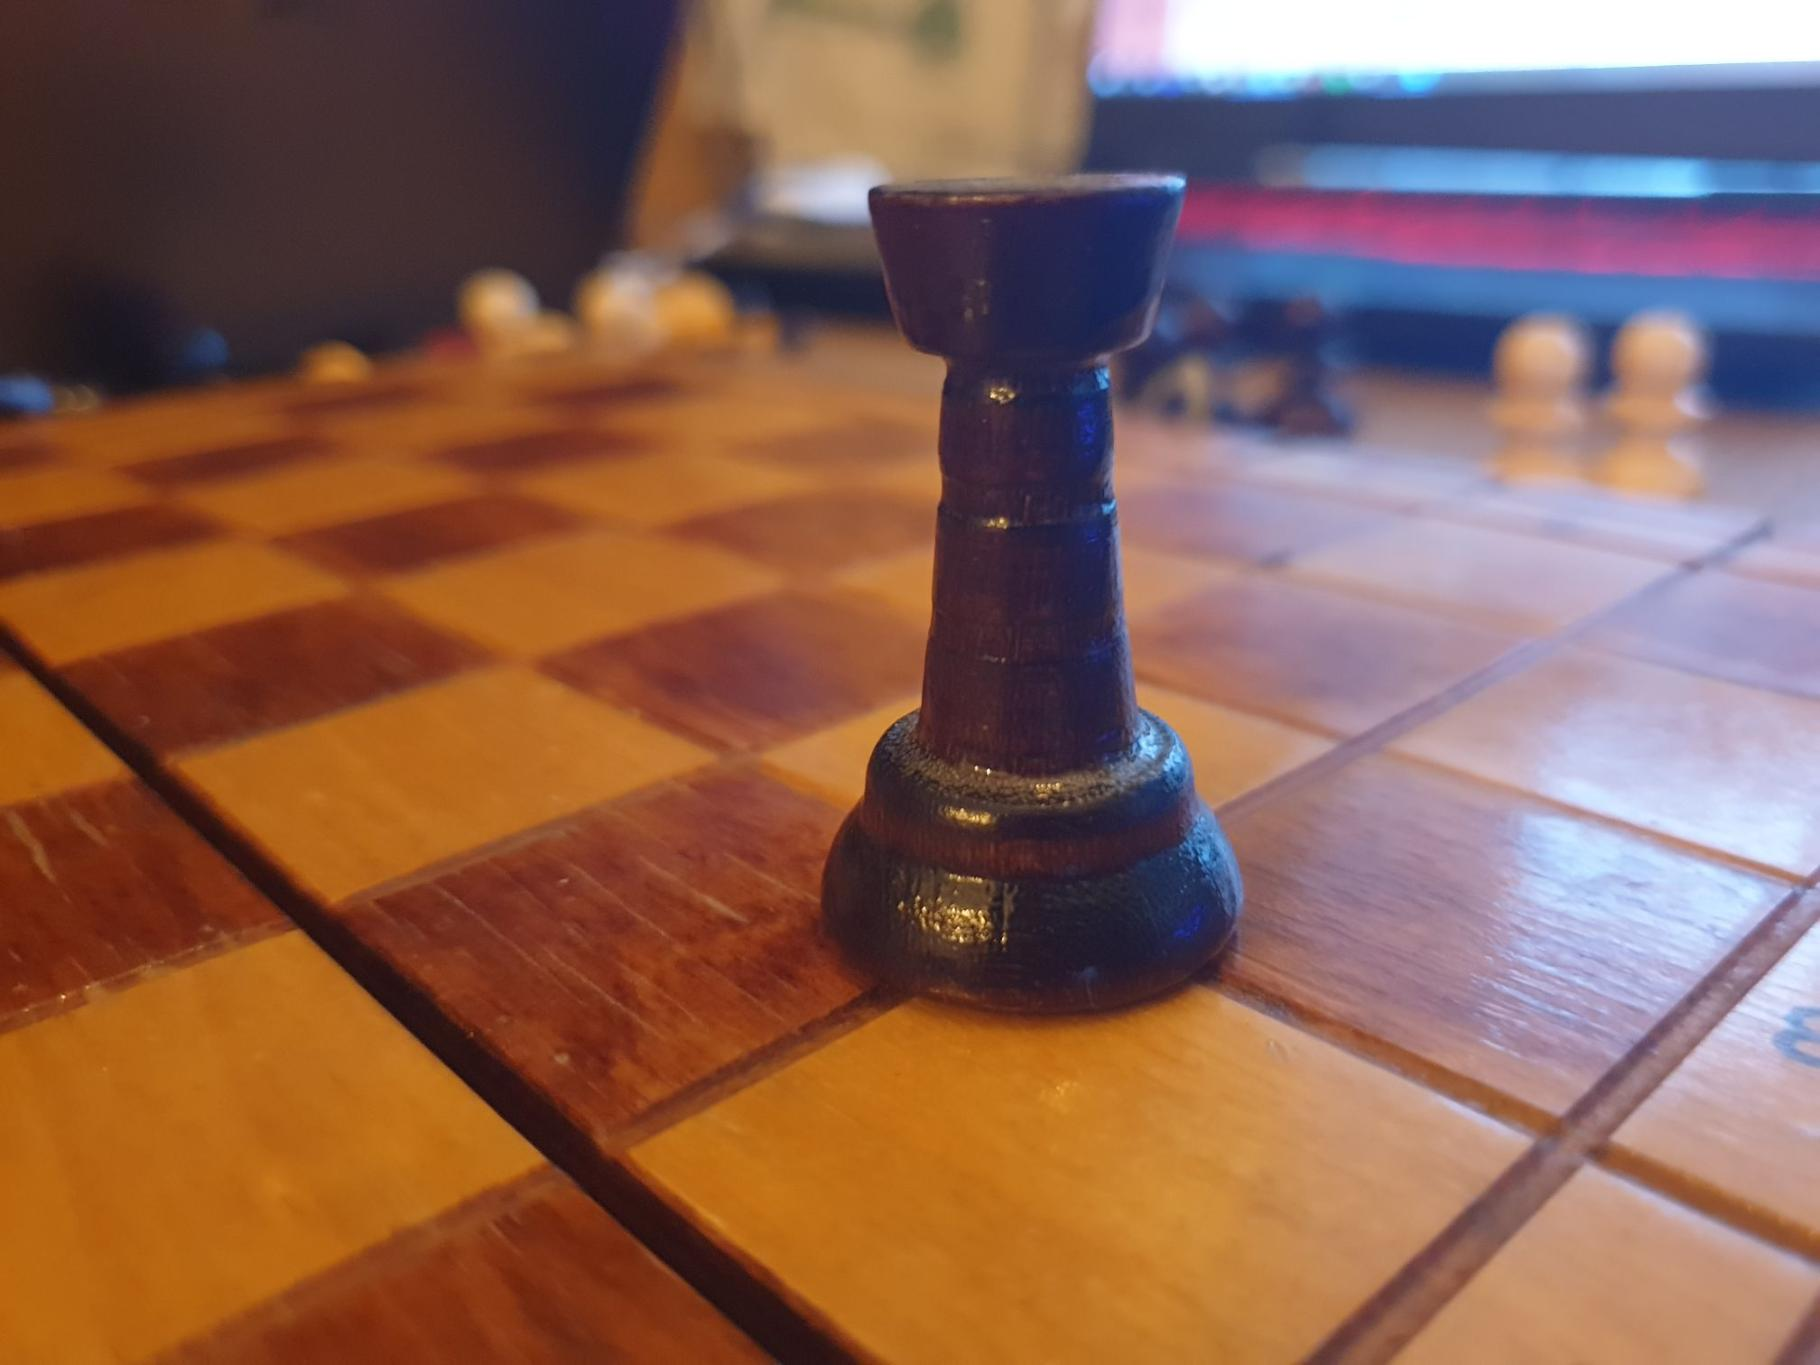brook: (820, 173, 1245, 1017)
